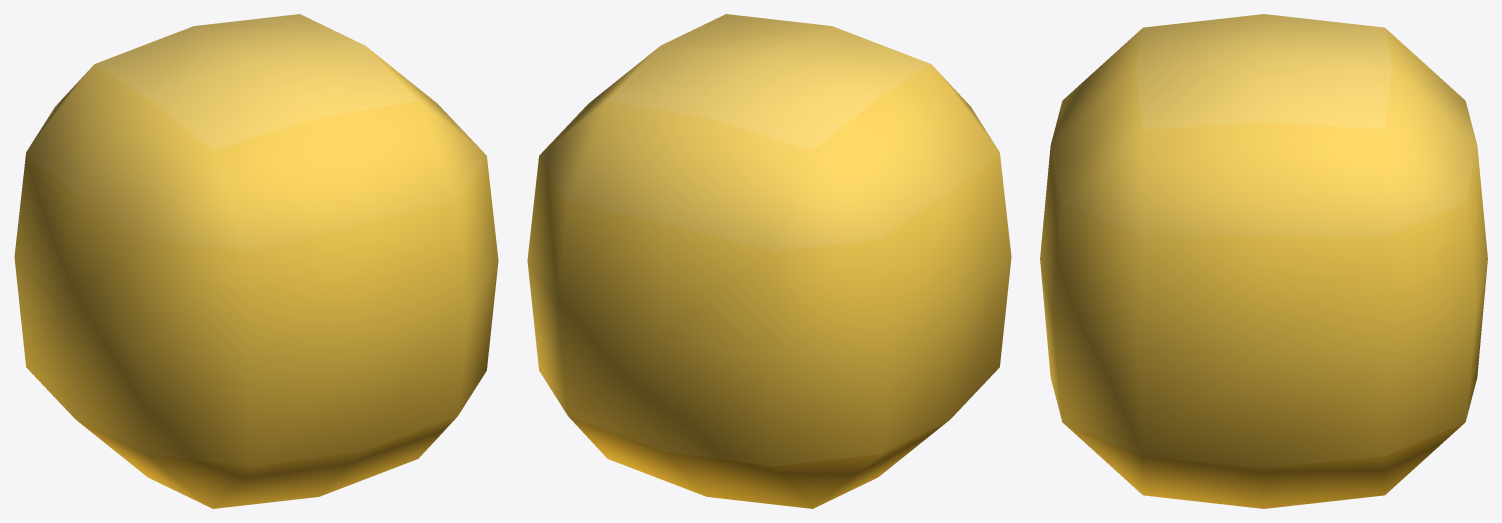
The model's file is ball_medium_small_yellow.fbx.
3 views of the same model, side by side, from view 1: azimuth 30°, elevation 25°; view 2: azimuth 150°, elevation 25°; view 3: azimuth 270°, elevation 25° (orthographic). The views are drawn at different scales.
Visible parts, largest first — view 1: ball_medium_small_yellow; view 2: ball_medium_small_yellow; view 3: ball_medium_small_yellow.
Part boxes in pixels (left/top/right/bottom): ball_medium_small_yellow: left=14, top=14, right=498, bottom=508; ball_medium_small_yellow: left=527, top=14, right=1011, bottom=508; ball_medium_small_yellow: left=1040, top=14, right=1487, bottom=508.
Bounding box in the file's own units: 55.97 × 56.34 × 55.97.
Materials: 1 (1 with a texture image).
